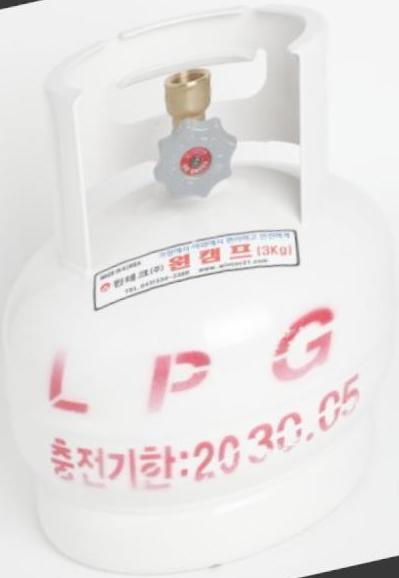cylinder: (1, 1, 399, 578)
